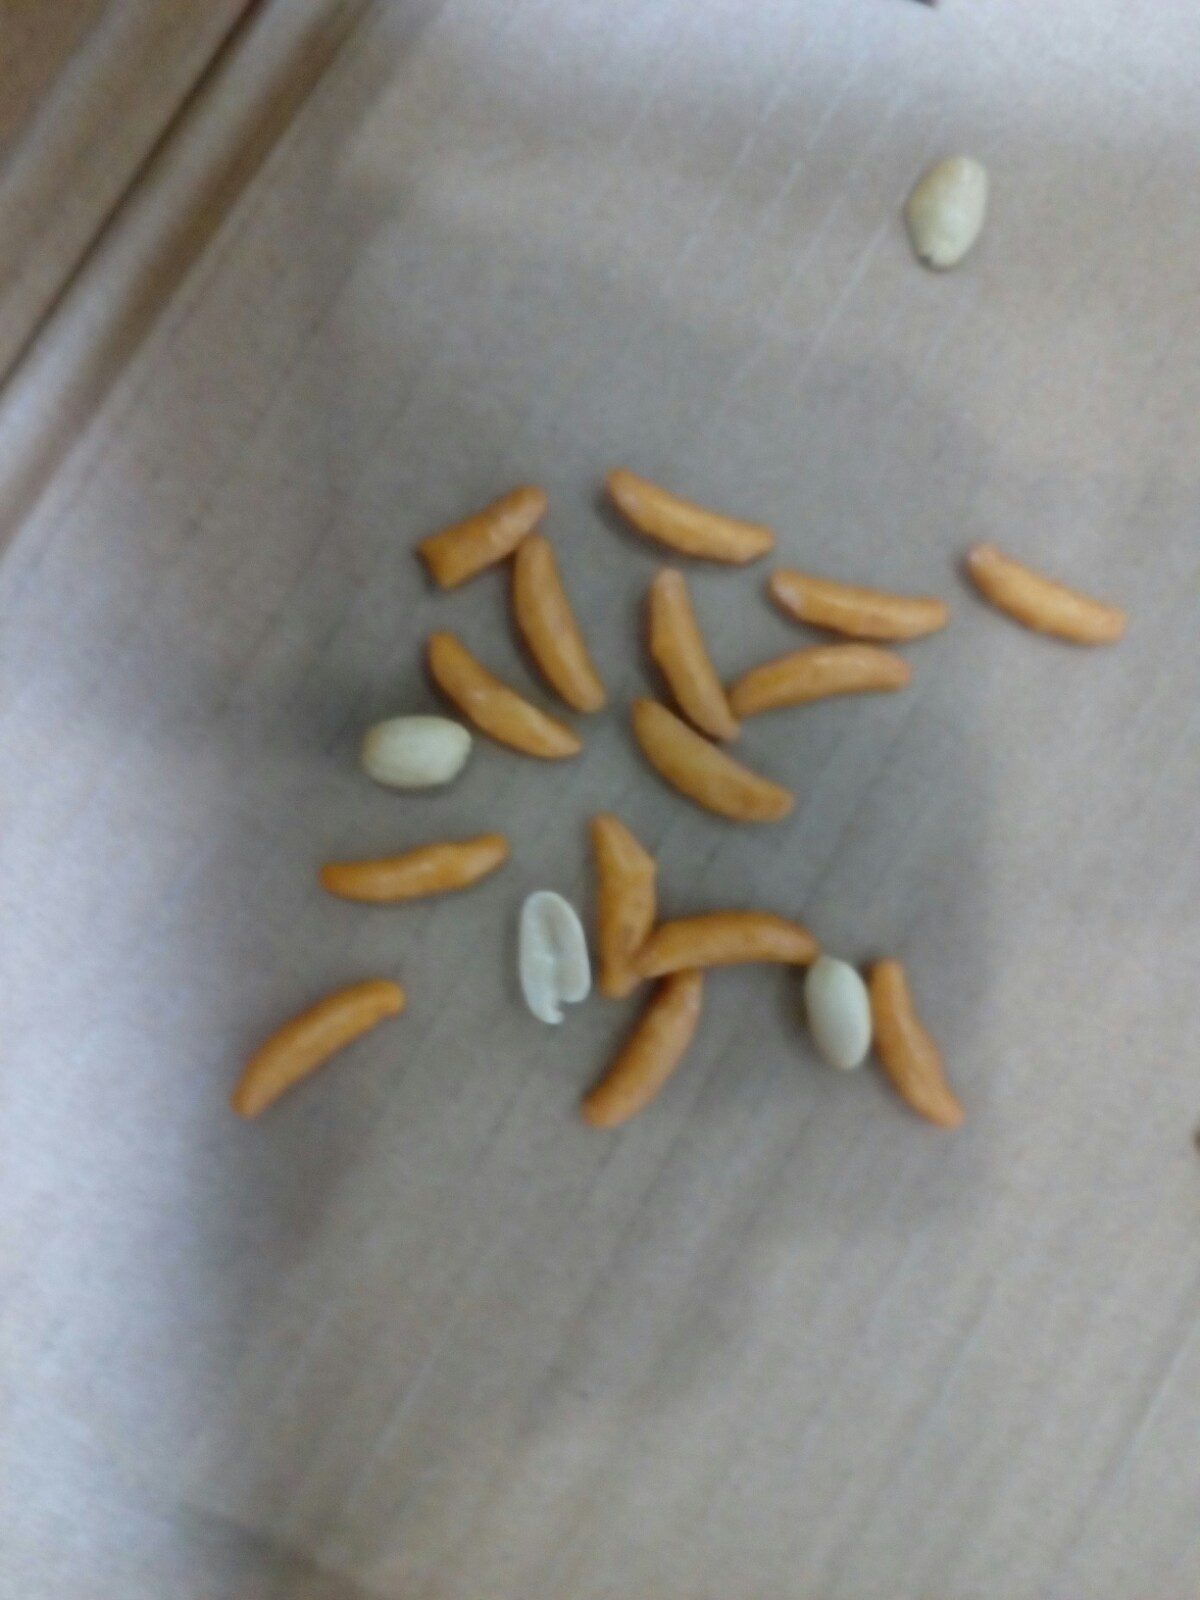peanut: (894, 140, 1007, 278), (345, 699, 482, 797), (516, 879, 586, 1036), (803, 944, 874, 1087)
